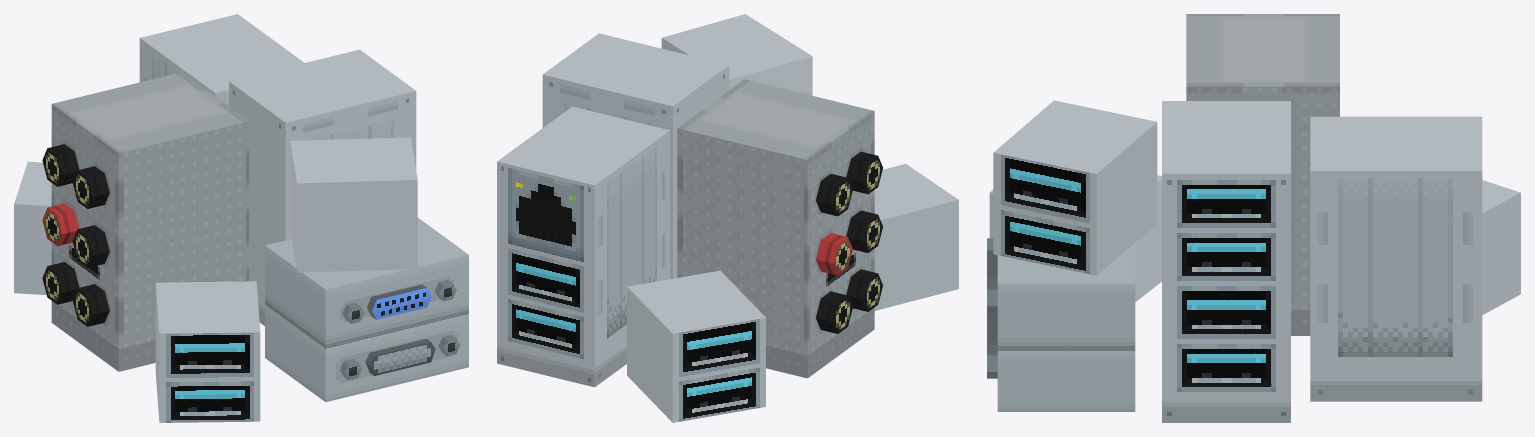
The model's file is ports.glb.
3 renders of one model, left to right at view 1: azimuth 30°, elevation 25°; view 2: azimuth 150°, elevation 25°; view 3: azimuth 270°, elevation 25°, orthographic. The views are drawn at different scales.
Parts seen in each view (by area): view 1: Cube; view 2: Cube; view 3: Cube.
Boxes of the visible parts, x1,y1,x2,y2 form: Cube: (14, 14, 468, 422); Cube: (497, 14, 958, 422); Cube: (987, 14, 1520, 422).
Size of the model in its own units: 2.36 by 1.6 by 3.1.
1 material, 1 textured.
